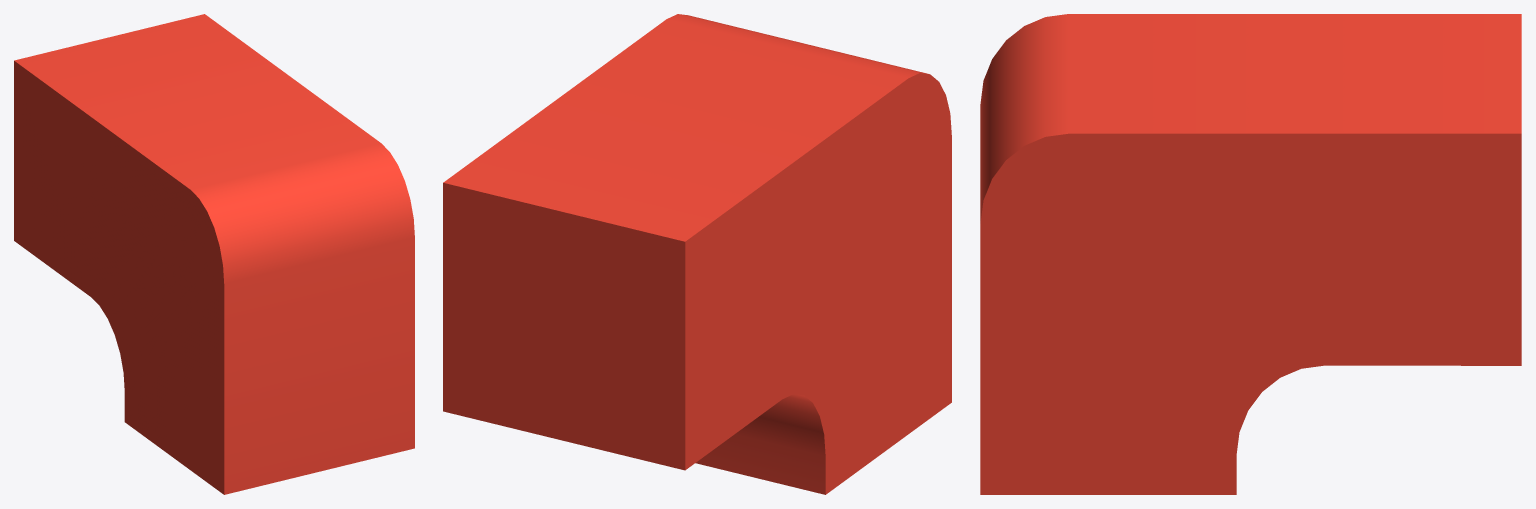
The model's file is Link Block Red L Type.fbx.
The picture shows the model from 3 angles, left to right: view 1: azimuth 30°, elevation 25°; view 2: azimuth 150°, elevation 25°; view 3: azimuth 270°, elevation 25°; orthographic projection. The views are drawn at different scales.
Parts seen in each view (by area): view 1: Link Block Red L Type; view 2: Link Block Red L Type; view 3: Link Block Red L Type.
Part boxes in pixels (left/top/right/bottom): Link Block Red L Type: left=14, top=14, right=414, bottom=494; Link Block Red L Type: left=443, top=14, right=951, bottom=494; Link Block Red L Type: left=980, top=14, right=1521, bottom=494.
Bounding box in the file's own units: 100 × 141 × 191.
